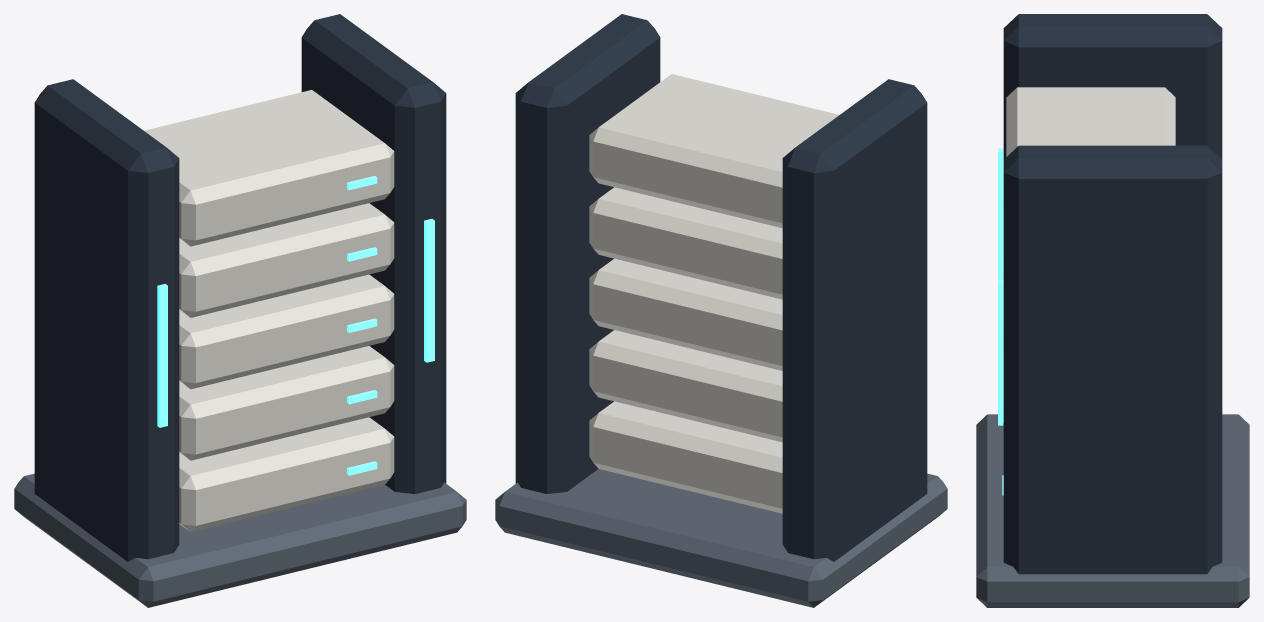
Rendered from todo_queue.glb.
The picture shows the model from 3 angles, left to right: view 1: azimuth 30°, elevation 25°; view 2: azimuth 150°, elevation 25°; view 3: azimuth 270°, elevation 25°; orthographic projection.
Parts seen in each view (by area): view 1: todo_queue__upright, todo_queue__upright__02, todo_queue__task_slab_05, todo_queue__base, todo_queue__task_slab_02, todo_queue__task_slab_04, todo_queue__task_slab_01, todo_queue__task_slab_03, todo_queue__upright_emissive, todo_queue__upright_emissive__02; view 2: todo_queue__upright, todo_queue__upright__02, todo_queue__base, todo_queue__task_slab_05, todo_queue__task_slab_04, todo_queue__task_slab_01, todo_queue__task_slab_02, todo_queue__task_slab_03; view 3: todo_queue__upright__02, todo_queue__upright, todo_queue__base, todo_queue__task_slab_05, todo_queue__upright_emissive__02, todo_queue__upright_emissive.
Part boxes in pixels (x1=…): todo_queue__upright: x1=34, y1=79, x2=179, y2=561; todo_queue__upright__02: x1=301, y1=14, x2=446, y2=493; todo_queue__task_slab_05: x1=144, y1=90, x2=394, y2=246; todo_queue__base: x1=14, y1=473, x2=466, y2=607; todo_queue__task_slab_02: x1=179, y1=346, x2=394, y2=460; todo_queue__task_slab_04: x1=179, y1=203, x2=394, y2=317; todo_queue__task_slab_01: x1=179, y1=417, x2=394, y2=531; todo_queue__task_slab_03: x1=179, y1=274, x2=394, y2=389; todo_queue__upright_emissive: x1=157, y1=284, x2=167, y2=427; todo_queue__upright_emissive__02: x1=424, y1=219, x2=434, y2=362; todo_queue__upright: x1=782, y1=79, x2=927, y2=561; todo_queue__upright__02: x1=515, y1=14, x2=660, y2=493; todo_queue__base: x1=495, y1=469, x2=947, y2=607; todo_queue__task_slab_05: x1=589, y1=74, x2=838, y2=228; todo_queue__task_slab_04: x1=589, y1=187, x2=782, y2=299; todo_queue__task_slab_01: x1=589, y1=401, x2=782, y2=513; todo_queue__task_slab_02: x1=589, y1=330, x2=782, y2=442; todo_queue__task_slab_03: x1=589, y1=258, x2=782, y2=370; todo_queue__upright__02: x1=1003, y1=145, x2=1222, y2=574; todo_queue__upright: x1=1003, y1=14, x2=1222, y2=159; todo_queue__base: x1=976, y1=414, x2=1249, y2=607; todo_queue__task_slab_05: x1=1006, y1=87, x2=1175, y2=156; todo_queue__upright_emissive__02: x1=998, y1=280, x2=1003, y2=425; todo_queue__upright_emissive: x1=998, y1=148, x2=1003, y2=279.
Bounding box in the file's own units: 1.4 × 1.8 × 1.
